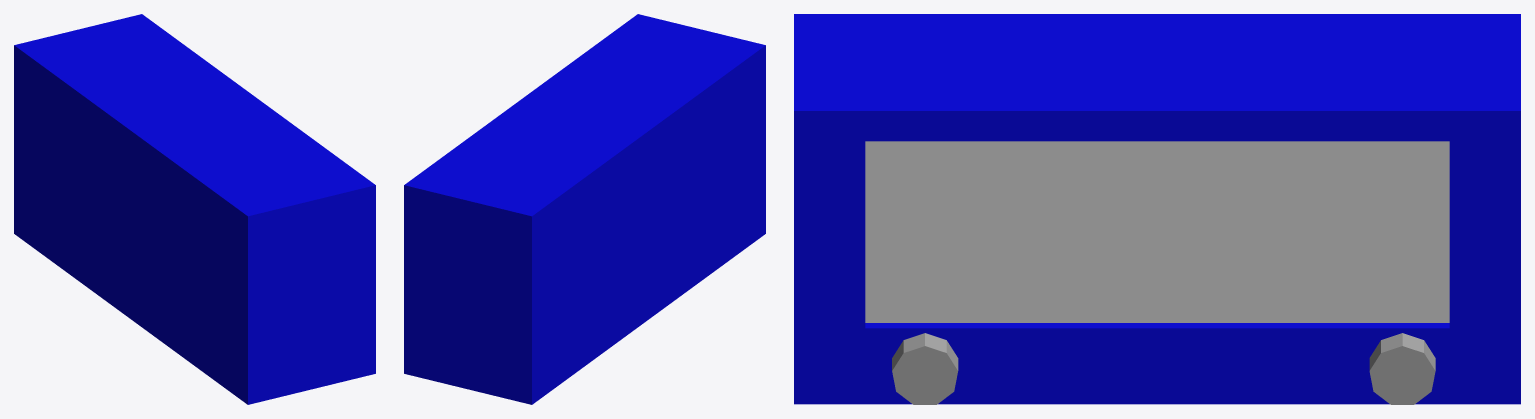
File: radio.fbx
3 renders of one model, left to right at view 1: azimuth 30°, elevation 25°; view 2: azimuth 150°, elevation 25°; view 3: azimuth 270°, elevation 25°, orthographic. The views are drawn at different scales.
Parts seen in each view (by area): view 1: pCube3; view 2: pCube3; view 3: pCube3, pCylinder1, pCylinder2.
Part boxes in pixels (left/top/right/bottom): pCube3: left=14, top=14, right=375, bottom=404; pCube3: left=404, top=14, right=765, bottom=404; pCube3: left=794, top=14, right=1520, bottom=404; pCylinder1: left=892, top=333, right=958, bottom=404; pCylinder2: left=1369, top=333, right=1435, bottom=404.
Size of the model in its own units: 1.13 by 1.41 by 3.17.
